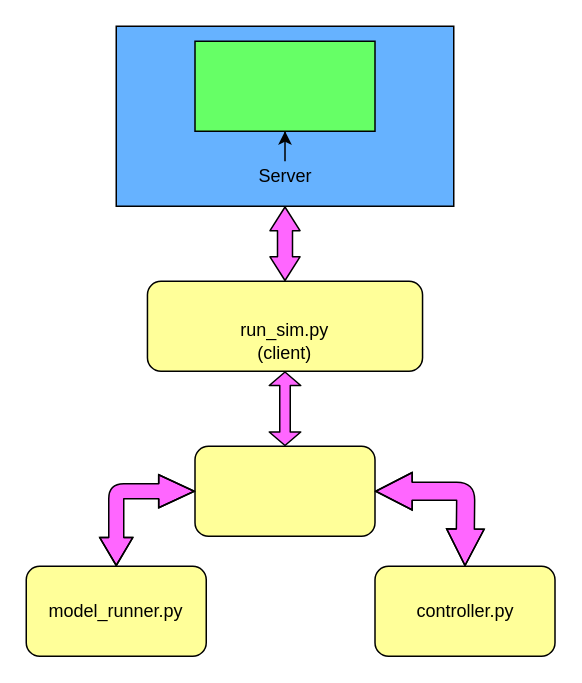
Image size: 582x683. Some labels were removed from this diagram. Here are the shapes that lost their labels. From the top down, the centre of each, then its label:
At (284,85): "Simulator".
At (284,490): "CAR.py".
